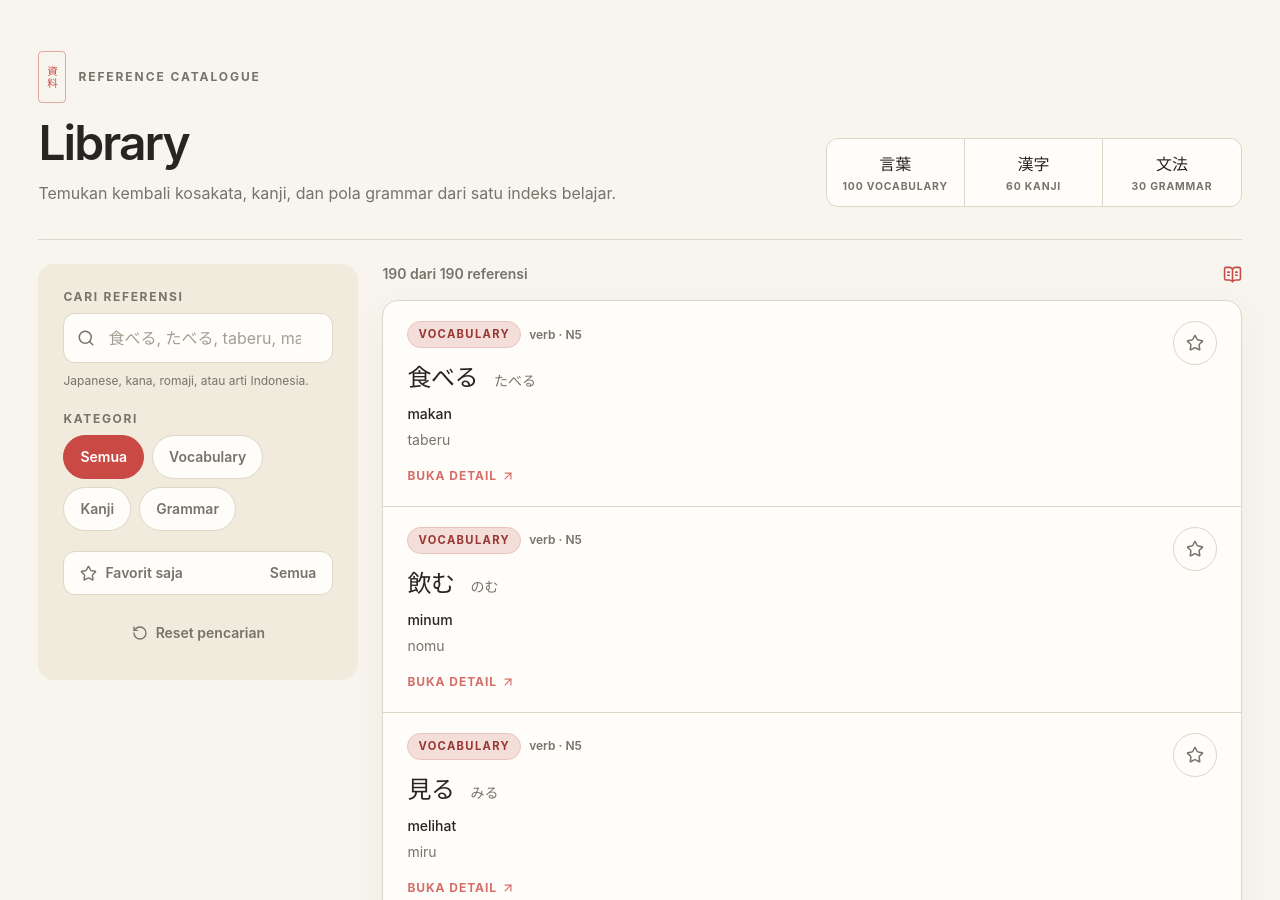
Test case: LibraryPage › filters by content type and current favorites
What coordinates should you click on to do the following:
click the button "Kanji"
I would click on:
 (97, 509)
Its box is [63,487,131,531].
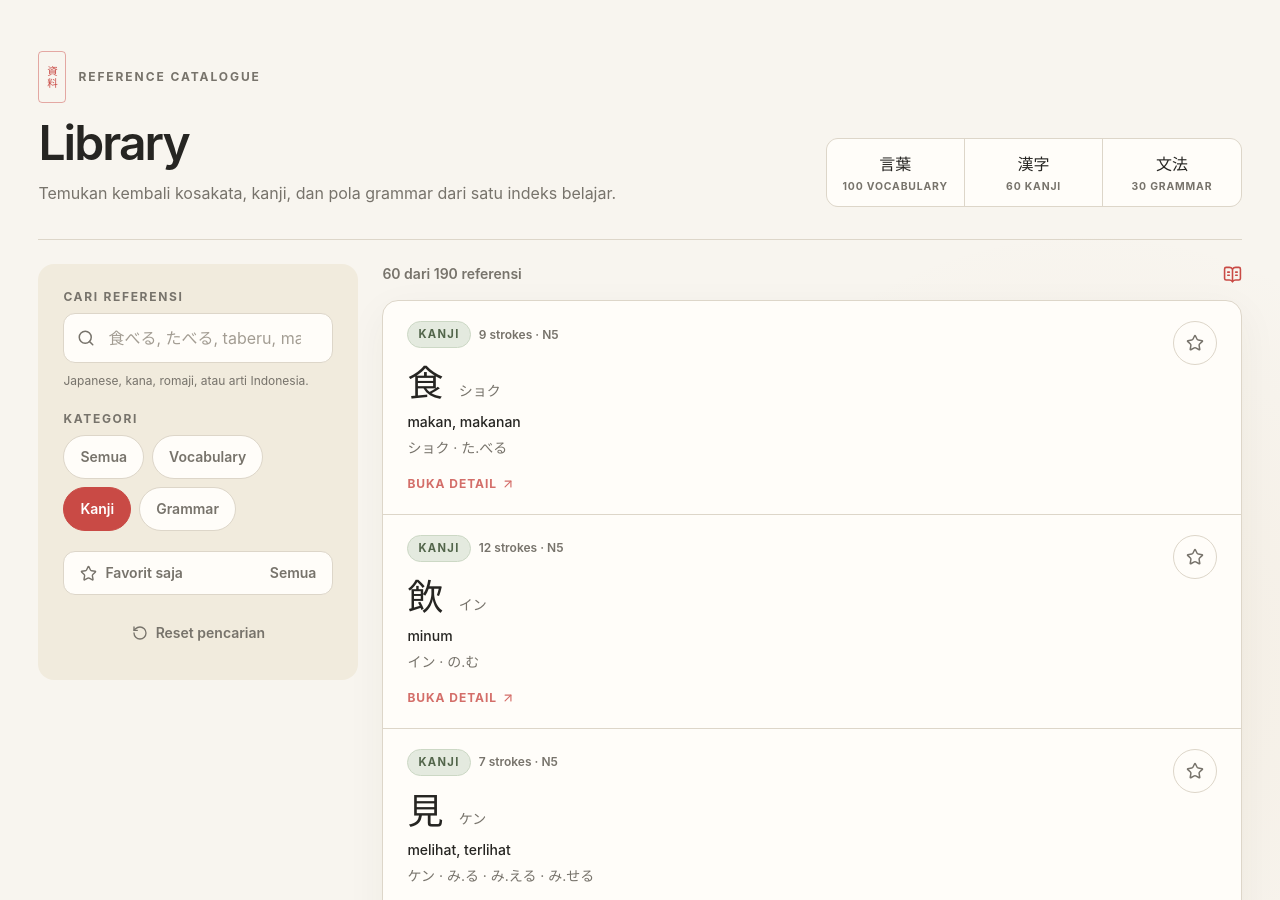
Expected: the heading "食" is shown, [407,360,443,400]
What coordinates should you click on to do the following:
click the button "Semua"
I would click on:
 (104, 457)
Its box is [63,435,144,479].
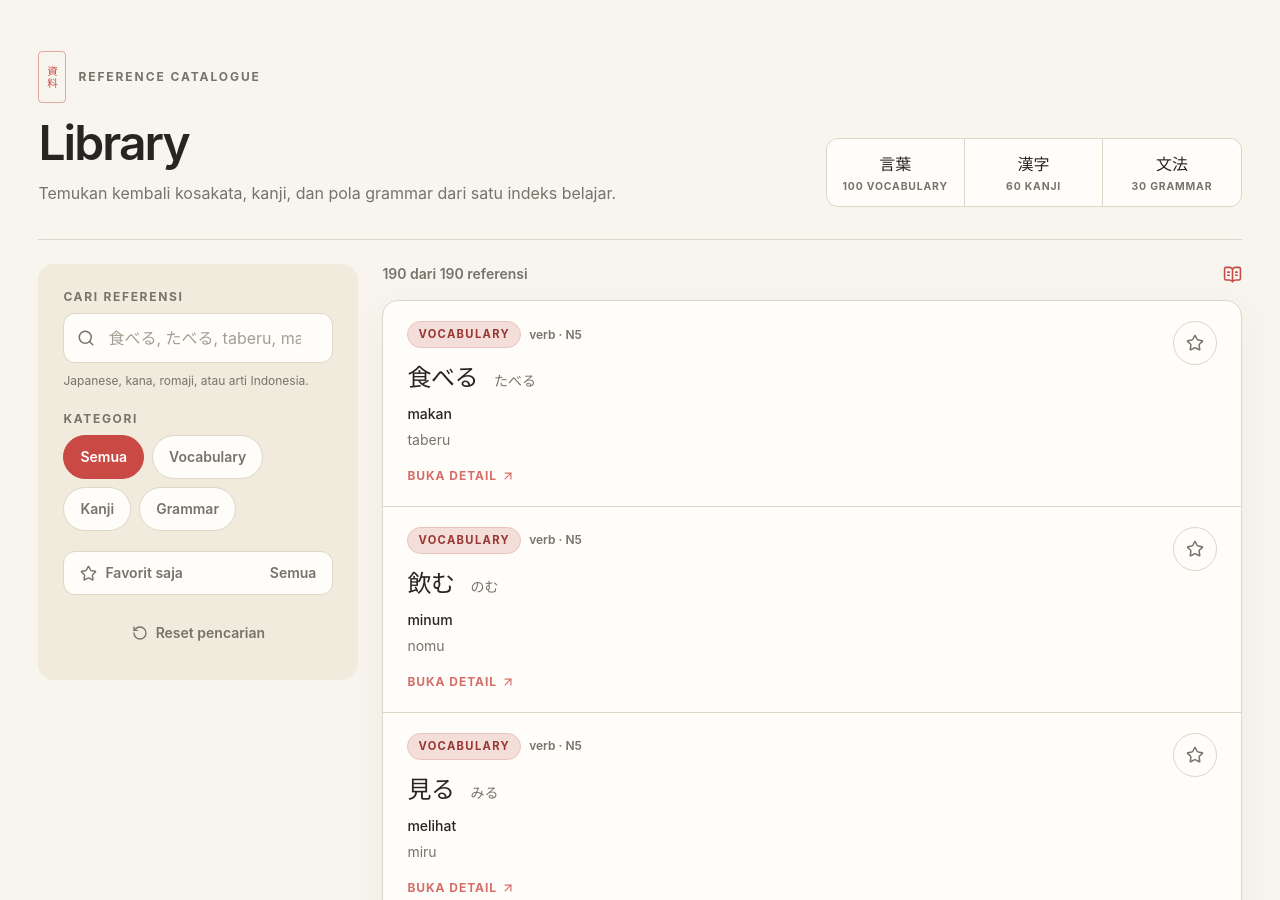
What coordinates should you click on to do the following:
click the button named "Tambahkan 食べる ke favorit"
I would click on:
 (1195, 343)
Its box is [1173,321,1217,365].
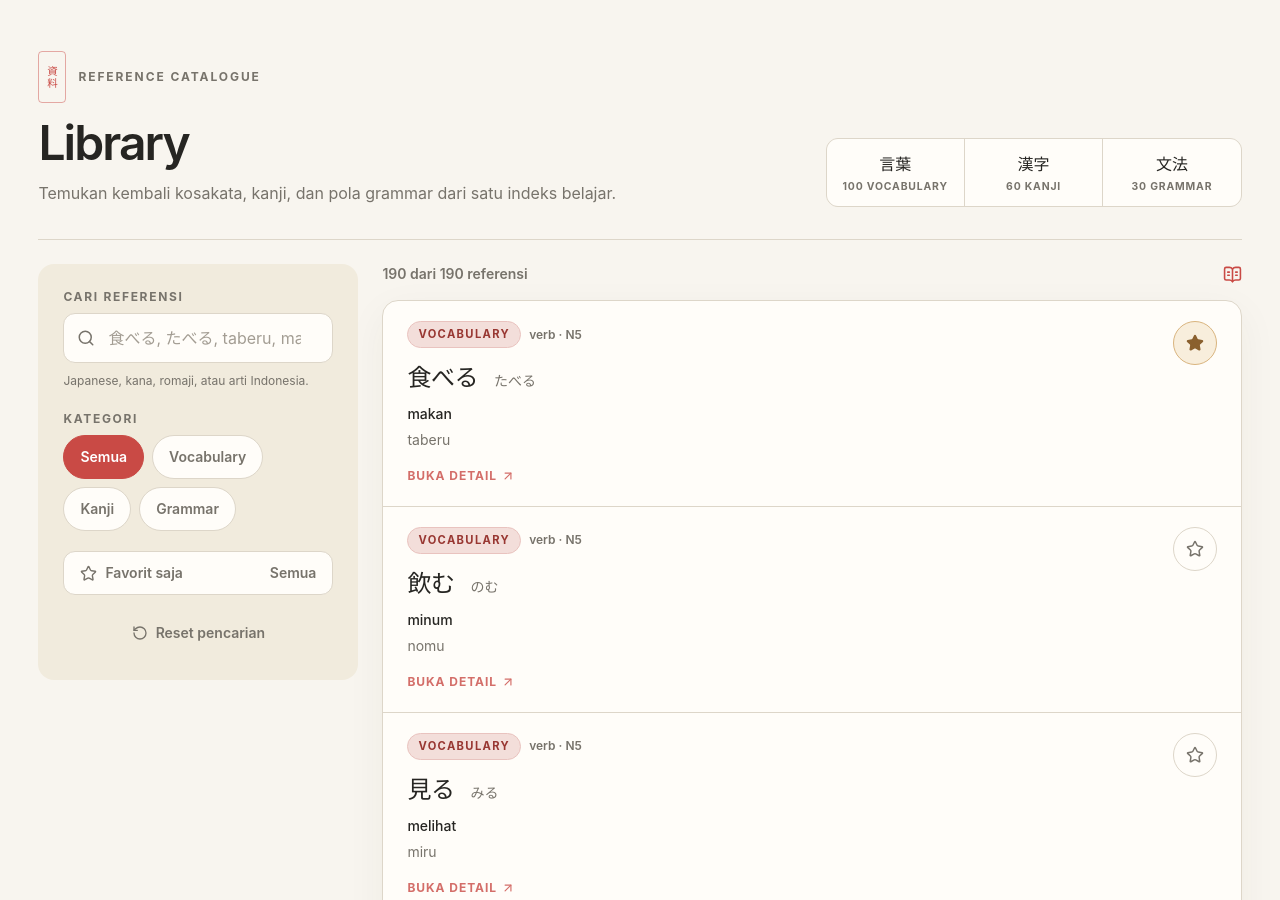
What coordinates should you click on to do the following:
click the button "Favorit saja Semua"
I would click on:
 (144, 573)
Its box is [63,551,333,595].
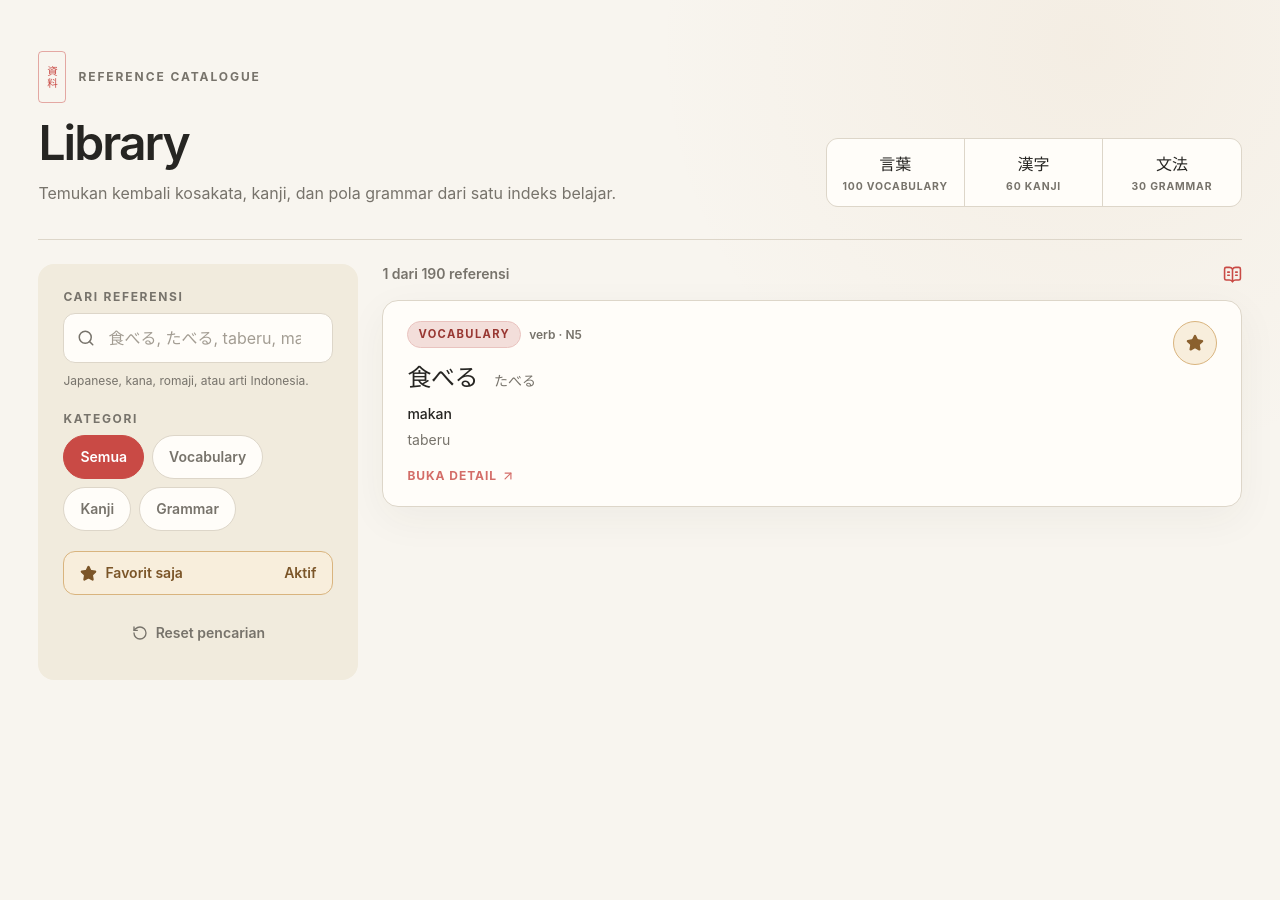
Now the heading "食べる" is shown, box [407,360,478,392]
Now the link "飲む" is gone
